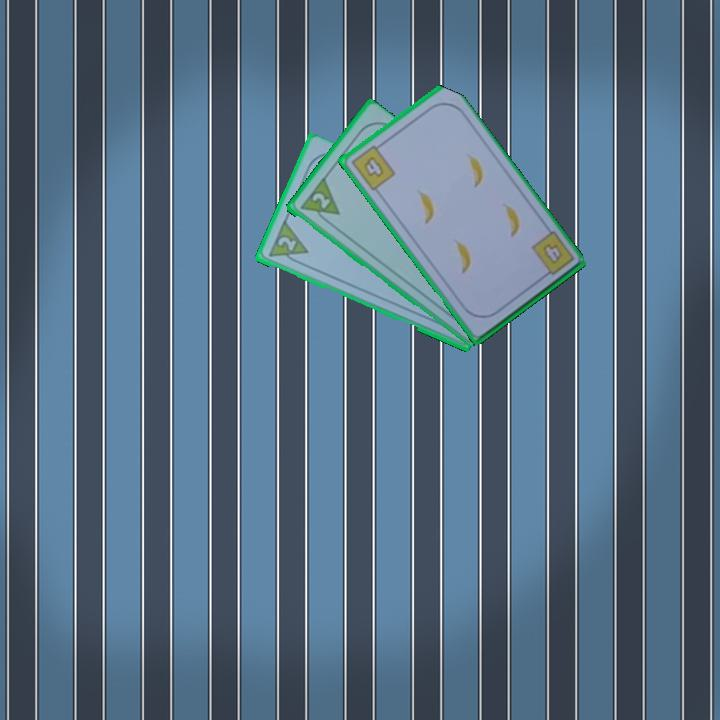2p: (296, 175, 342, 228), (274, 233, 299, 254)
4b: (347, 139, 398, 193), (539, 240, 565, 267)
